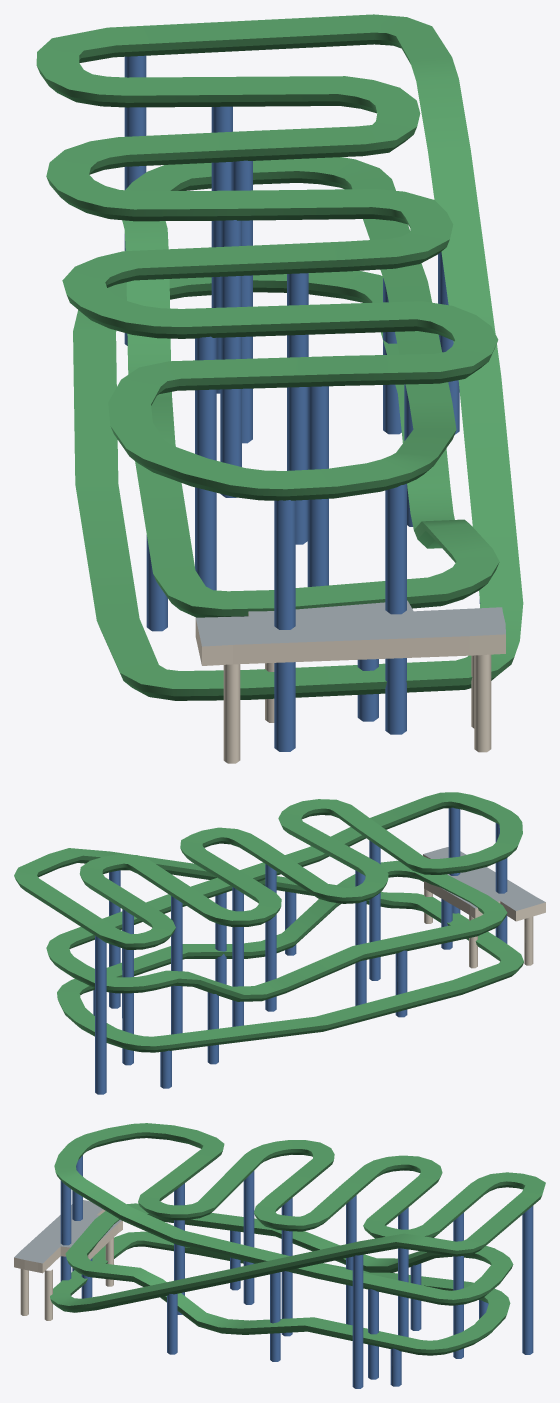
Rendered from carowinds-ricochet.glb.
The picture shows the model from 3 angles, top to bottom: view 1: azimuth 30°, elevation 25°; view 2: azimuth 150°, elevation 25°; view 3: azimuth 270°, elevation 25°; orthographic projection. The views are drawn at different scales.
Parts seen in each view (by area): view 1: Ricochet; view 2: Ricochet; view 3: Ricochet.
Part boxes in pixels (x1,y1,x2,y2): Ricochet: [36, 14, 523, 763]; Ricochet: [14, 792, 545, 1094]; Ricochet: [14, 1123, 545, 1388].
Bounding box in the file's own units: 30.08 × 14.72 × 44.43.
